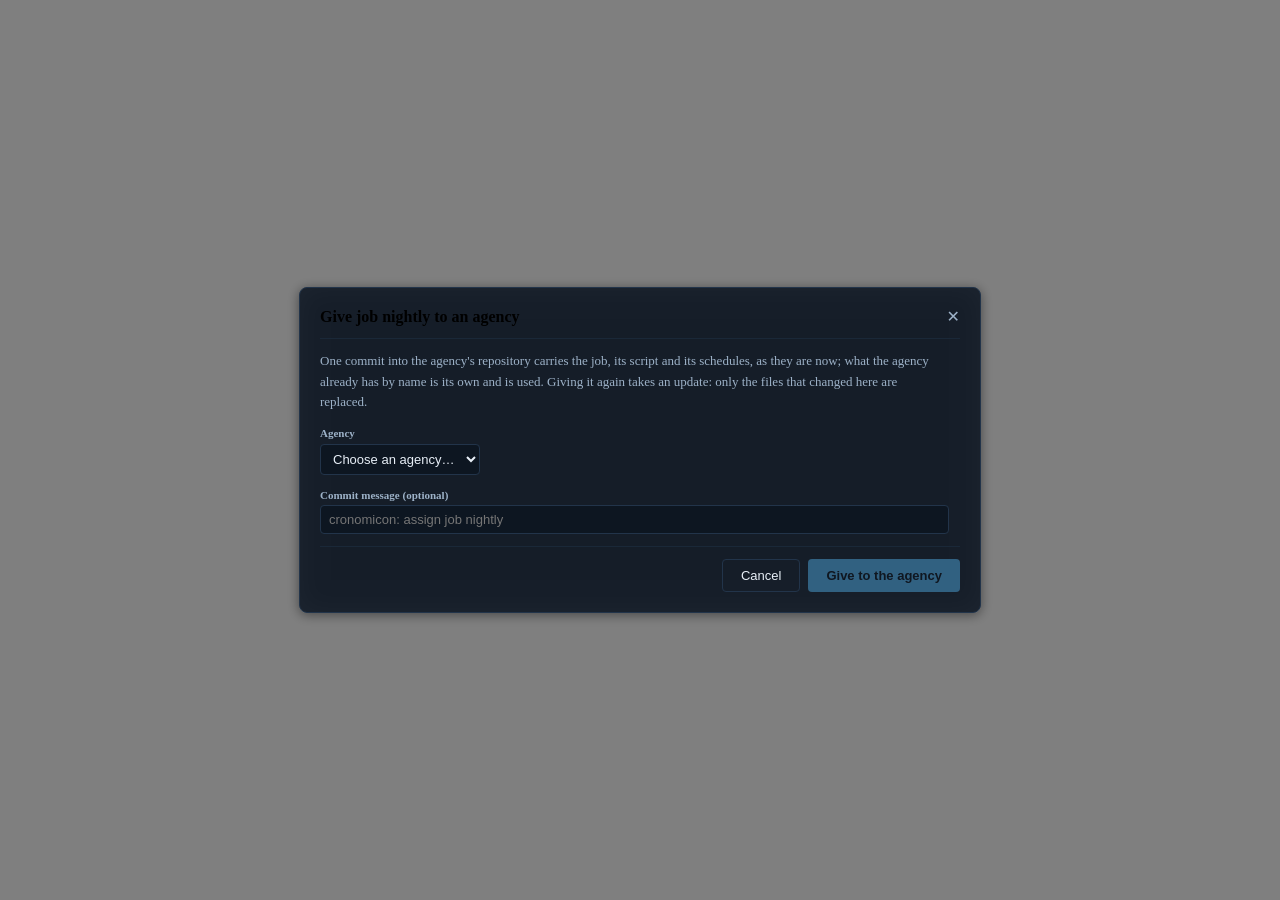
AssignDialog › shows what the copy reacts to that the agency would not have
The width and height of the screenshot is (1280, 900).
Select "Finance" in the dropdown named "Agency": (400, 459) [320,444,480,475]
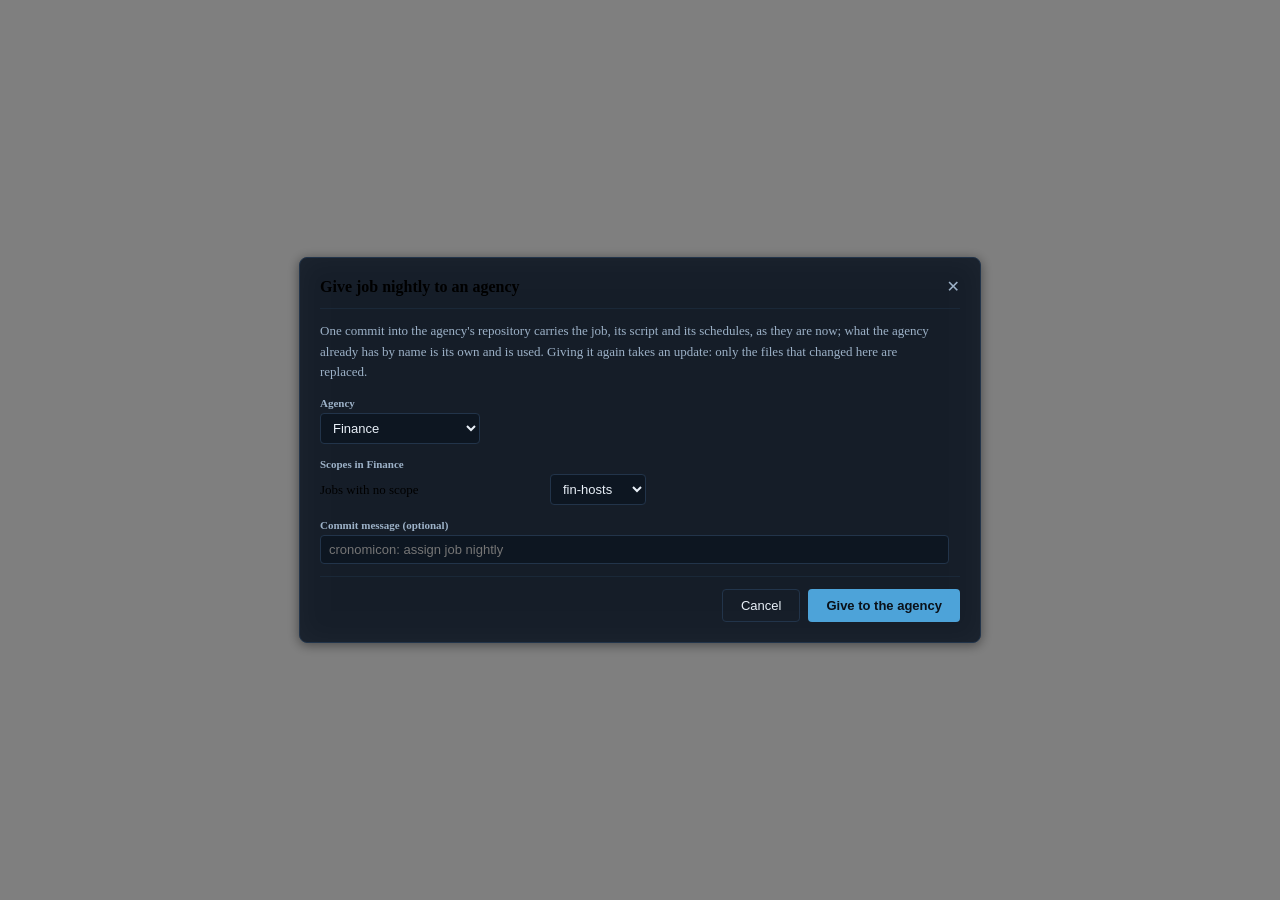
Expected: the dropdown named "Scope for jobs with no scope" shows "fin-hosts", [550,474,646,505]
Click the button "Give to the agency": (884, 606) [808,589,960,622]
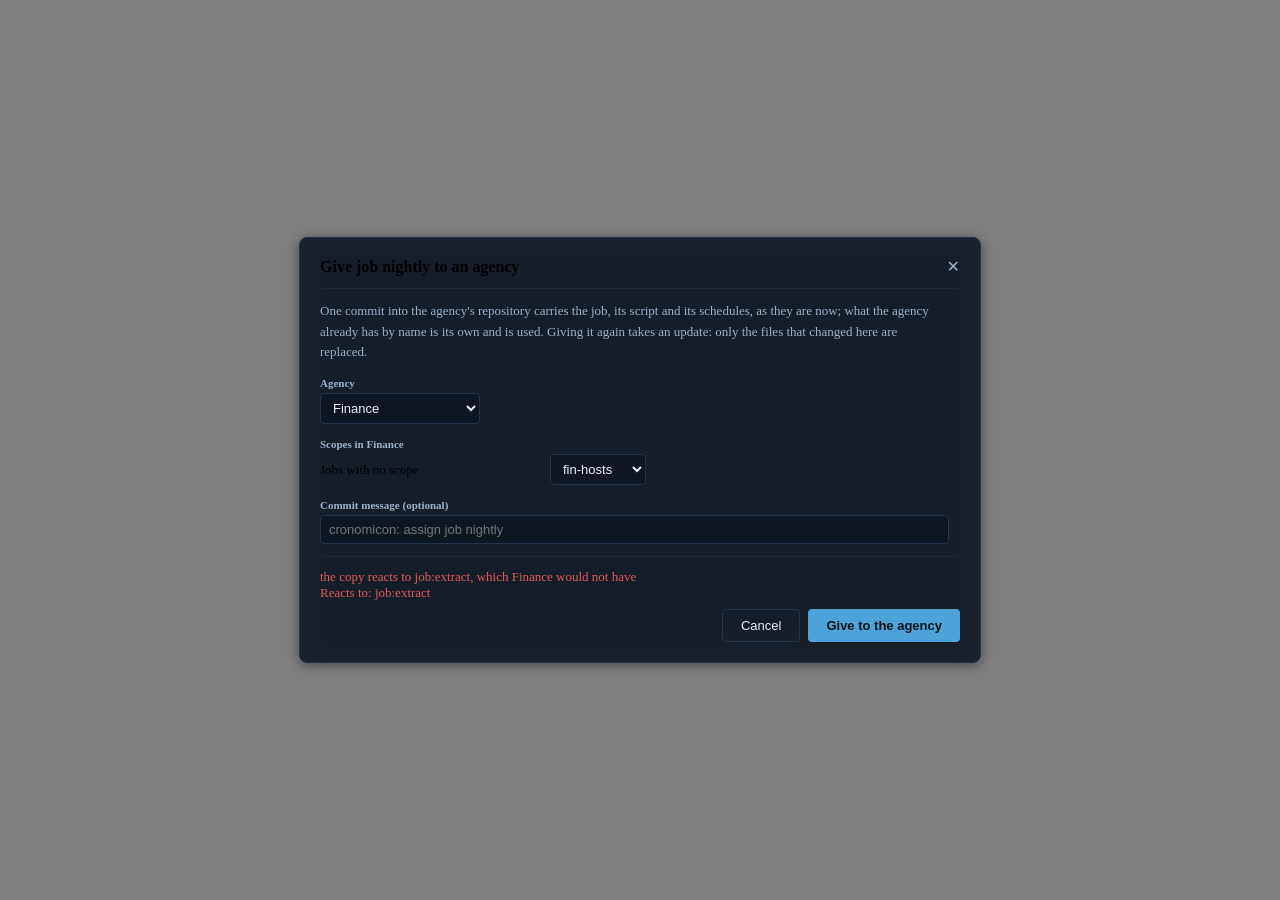
Expected: the message shows "Reacts to: job:extract", [320,569,636,600]
